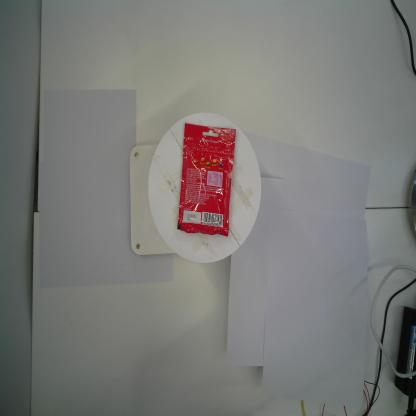Candy: (177, 122, 236, 238)
